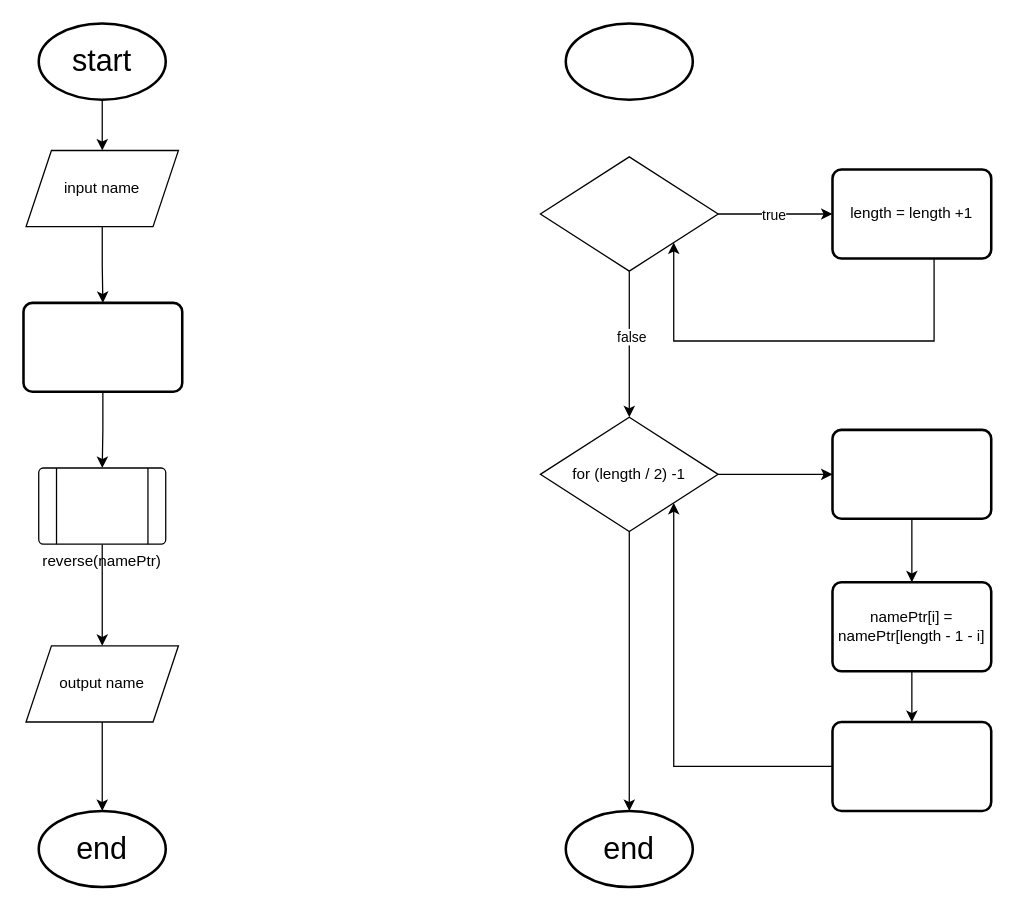
This 1013x919 diagram has some shape labels left out. The centre of each missing label's shape, as x and y in pixels:
"namePtr = name" belongs at [102,346].
"namePtr[length - 1 - i] = temp" belongs at [911,766].
"namePtr[length] != 0" belongs at [628,213].
"reverse(name, namePtr)" belongs at [628,61].
"temp = namePtr[i]" belongs at [911,473].
